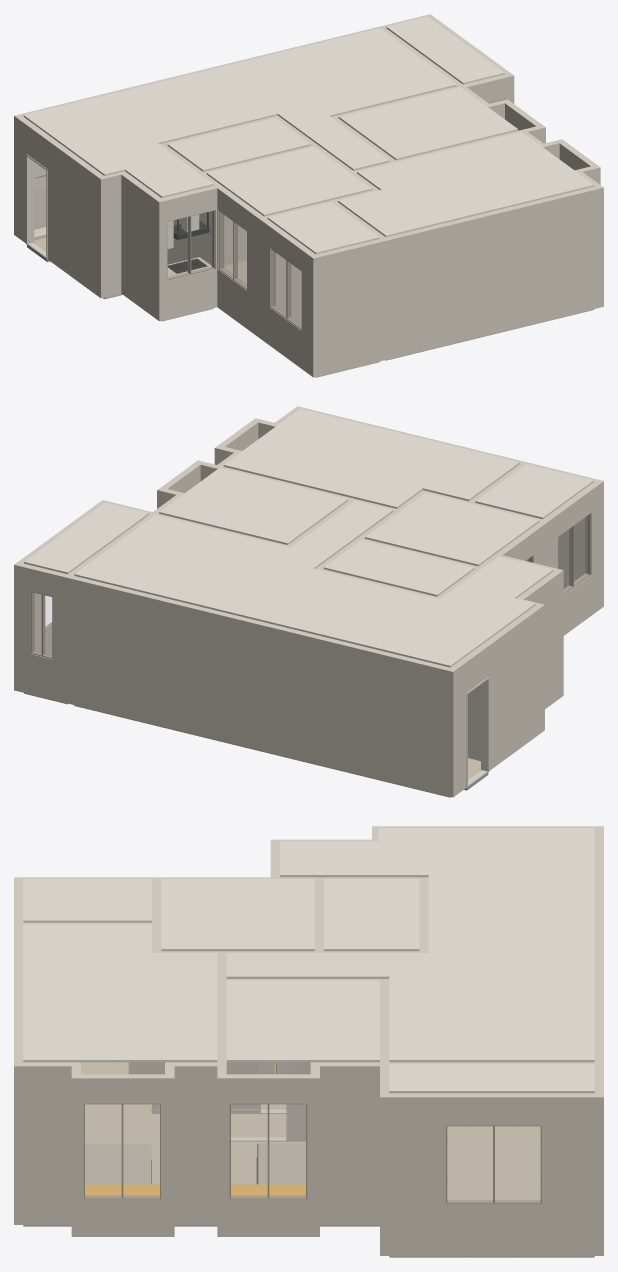
The model's file is house.glb.
The picture shows the model from 3 angles, top to bottom: view 1: azimuth 30°, elevation 25°; view 2: azimuth 150°, elevation 25°; view 3: azimuth 270°, elevation 25°; orthographic projection. The views are drawn at different scales.
Visible parts, largest first — view 1: WALL_EXT_014, CEILING_ROOM_003, CEILING_ROOM_008, WALL_EXT_020, CEILING_ROOM_007, CEILING_ROOM_006, CEILING_ROOM_002, WALL_EXT_017, WALL_EXT_015, WALL_EXT_018, CEILING_ROOM_005, WALL_EXT_016 (+17 smaller); view 2: WALL_EXT_001, CEILING_ROOM_003, CEILING_ROOM_008, WALL_EXT_020, CEILING_ROOM_007, CEILING_ROOM_006, CEILING_ROOM_002, WALL_EXT_002, CEILING_ROOM_005, WALL_EXT_015, CEILING_ROOM_004, CEILING_ROOM_009 (+14 smaller); view 3: CEILING_ROOM_003, WALL_EXT_003, CEILING_ROOM_008, CEILING_ROOM_007, CEILING_ROOM_006, CEILING_ROOM_002, WALL_EXT_005, WALL_EXT_013, WALL_EXT_009, CEILING_ROOM_005, ROOM_003, WINDOW_002_glazing (+32 smaller).
Part boxes in pixels (left/top/right/bottom): WALL_EXT_014: left=310, top=185, right=603, bottom=377; CEILING_ROOM_003: left=96, top=28, right=456, bottom=146; CEILING_ROOM_008: left=338, top=131, right=594, bottom=237; WALL_EXT_020: left=17, top=117, right=103, bottom=295; CEILING_ROOM_007: left=338, top=87, right=517, bottom=160; CEILING_ROOM_006: left=206, top=146, right=371, bottom=216; CEILING_ROOM_002: left=54, top=120, right=213, bottom=197; WALL_EXT_017: left=156, top=185, right=217, bottom=321; WALL_EXT_015: left=260, top=218, right=315, bottom=374; WALL_EXT_018: left=121, top=173, right=161, bottom=318; CEILING_ROOM_005: left=167, top=118, right=310, bottom=171; WALL_EXT_016: left=216, top=185, right=265, bottom=337; WALL_EXT_001: left=67, top=575, right=456, bottom=797; CEILING_ROOM_003: left=74, top=514, right=439, bottom=648; CEILING_ROOM_008: left=223, top=408, right=519, bottom=508; WALL_EXT_020: left=451, top=606, right=541, bottom=794; CEILING_ROOM_007: left=159, top=467, right=348, bottom=544; CEILING_ROOM_006: left=365, top=492, right=539, bottom=566; CEILING_ROOM_002: left=407, top=556, right=553, bottom=643; WALL_EXT_002: left=14, top=562, right=70, bottom=703; CEILING_ROOM_005: left=323, top=539, right=474, bottom=596; WALL_EXT_015: left=541, top=482, right=600, bottom=635; CEILING_ROOM_004: left=24, top=502, right=148, bottom=574; CEILING_ROOM_009: left=475, top=464, right=593, bottom=519; CEILING_ROOM_003: left=314, top=875, right=594, bottom=1062; WALL_EXT_003: left=389, top=1093, right=594, bottom=1255; CEILING_ROOM_008: left=23, top=924, right=217, bottom=1062; CEILING_ROOM_007: left=226, top=980, right=379, bottom=1062; CEILING_ROOM_006: left=161, top=879, right=314, bottom=951; CEILING_ROOM_002: left=280, top=828, right=511, bottom=877; WALL_EXT_005: left=320, top=1062, right=379, bottom=1224; WALL_EXT_013: left=23, top=1062, right=71, bottom=1224; WALL_EXT_009: left=174, top=1062, right=217, bottom=1224; CEILING_ROOM_005: left=324, top=879, right=419, bottom=951; ROOM_003: left=447, top=1126, right=540, bottom=1200; WINDOW_002_glazing: left=448, top=1127, right=539, bottom=1201.
Bounding box in the file's own units: 10.26 × 2.94 × 9.43.
Materials: 23 (3 with a texture image).
